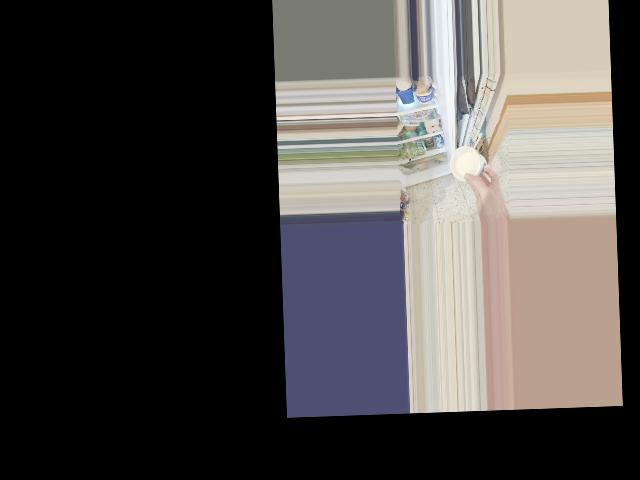cotage: (452, 144, 491, 180)
